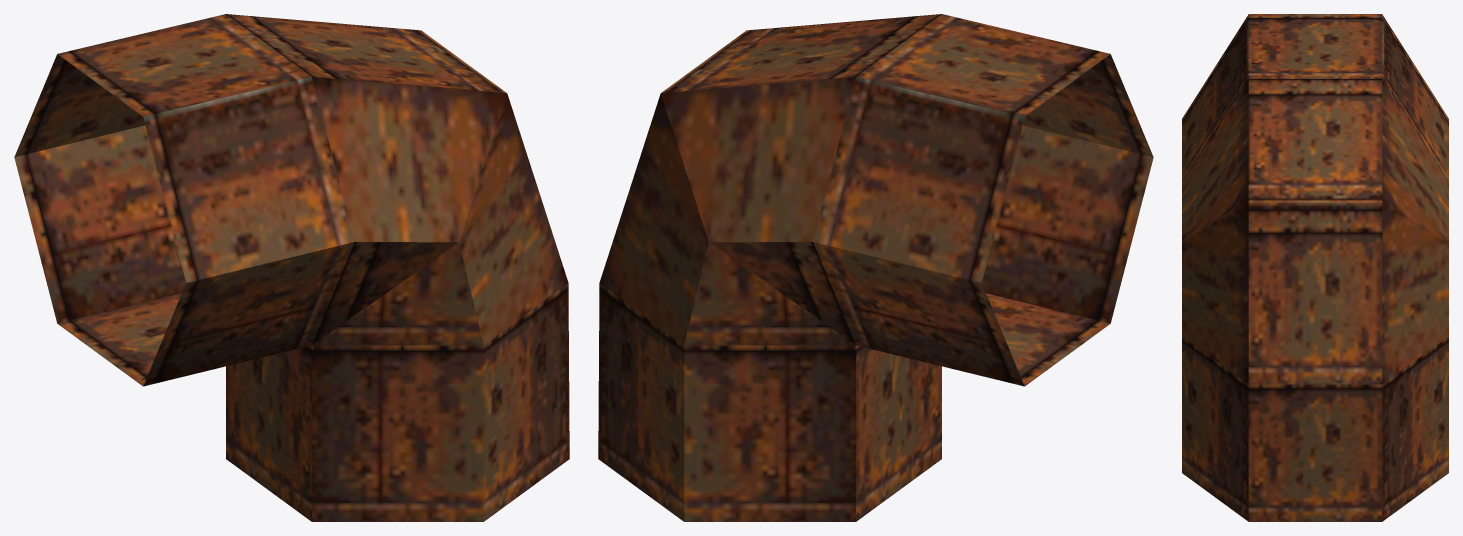
Rendered from pipe_corner_rusted.fbx.
3 views of the same model, side by side, from view 1: azimuth 30°, elevation 25°; view 2: azimuth 150°, elevation 25°; view 3: azimuth 270°, elevation 25° (orthographic). The views are drawn at different scales.
Parts seen in each view (by area): view 1: pipe_corner_rusted; view 2: pipe_corner_rusted; view 3: pipe_corner_rusted.
Boxes of the visible parts, <box> form: pipe_corner_rusted: <box>14,14,569,521</box>; pipe_corner_rusted: <box>598,14,1153,521</box>; pipe_corner_rusted: <box>1182,14,1448,521</box>.
Bounding box in the file's own units: 71.65 × 71.65 × 50.
Materials: 1 (1 with a texture image).
